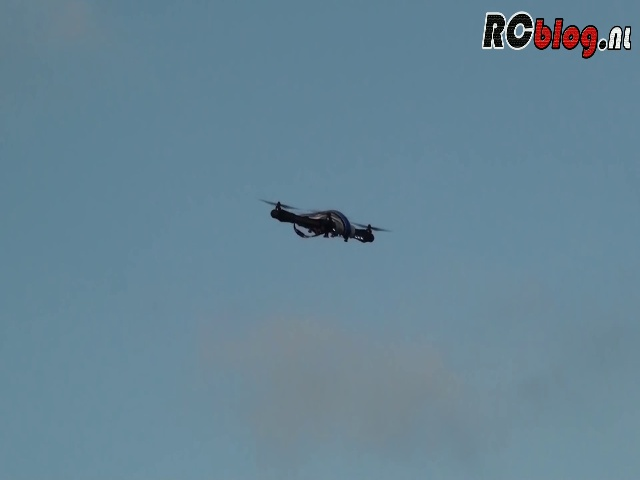drone: (253, 194, 395, 243)
